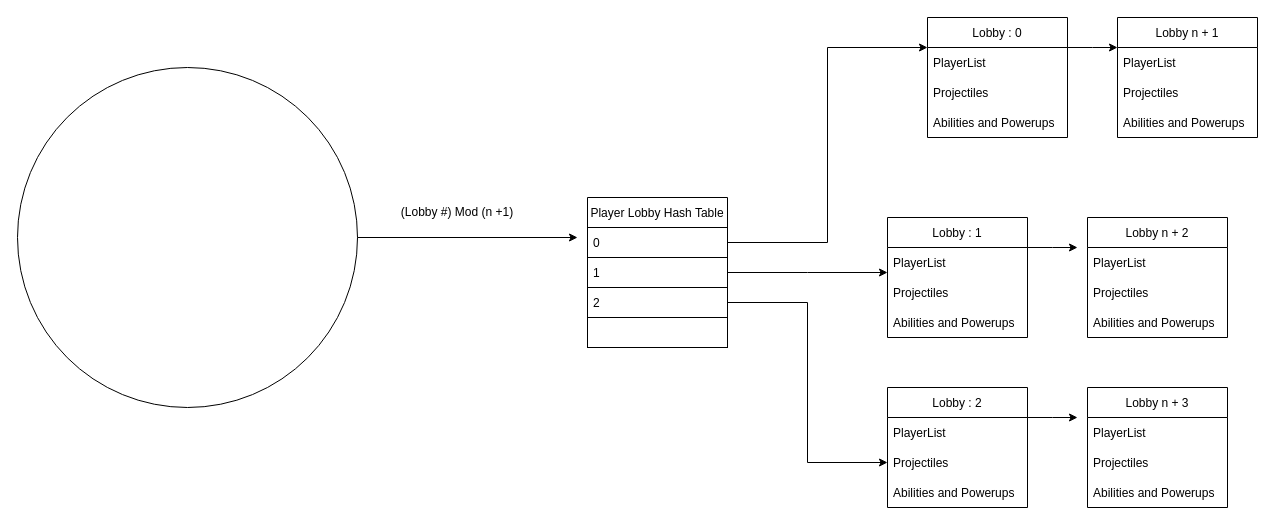
Image size: 1275x525. Some labels were removed from this diagram. The centre of each missing label's shape, as x and y in pixels:
"... n" belongs at point 657,332.
"Player Lobby Id Lobby :0 Lobby :1 Lobby :2 ... Lobby m." belongs at point 187,237.
